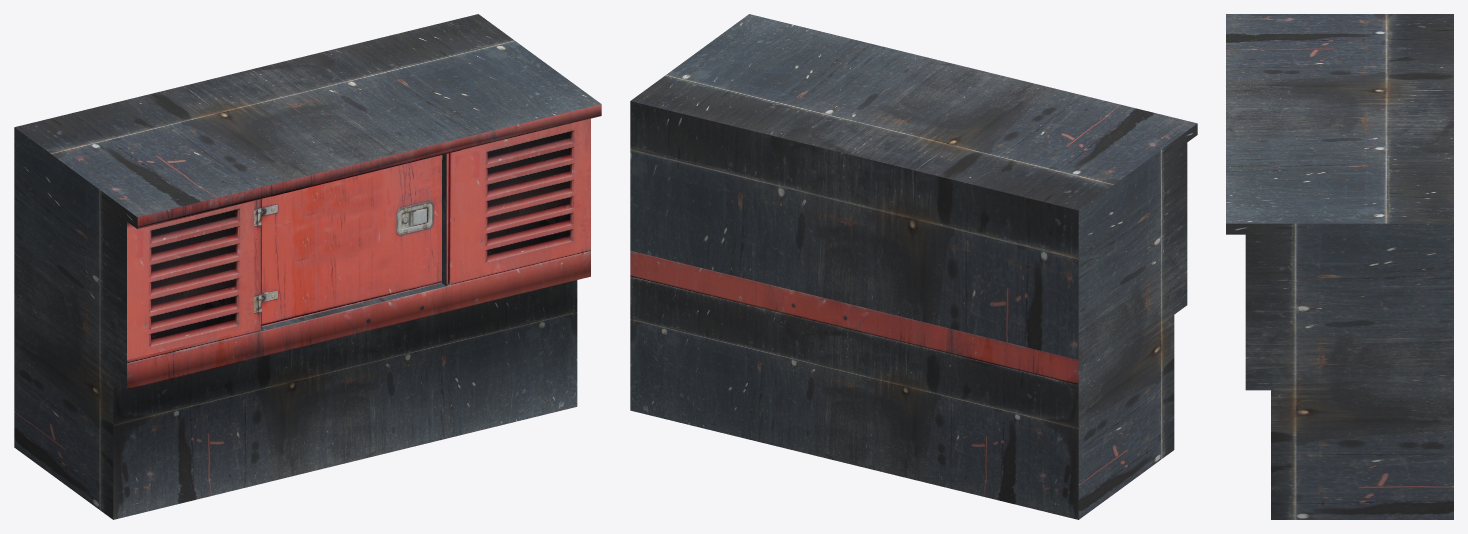
Rendered from industrial31.obj.
3 renders of one model, left to right at view 1: azimuth 30°, elevation 25°; view 2: azimuth 150°, elevation 25°; view 3: azimuth 270°, elevation 25°, orthographic. The views are drawn at different scales.
Visible parts, largest first — view 1: industrial31; view 2: industrial31; view 3: industrial31.
Part boxes in pixels (x1,y1,x2,y2): industrial31: [14, 14, 601, 519]; industrial31: [630, 14, 1197, 519]; industrial31: [1226, 14, 1453, 519].
Size of the model in its own units: 112 by 73.55 by 51.25.
1 material, 1 textured.
